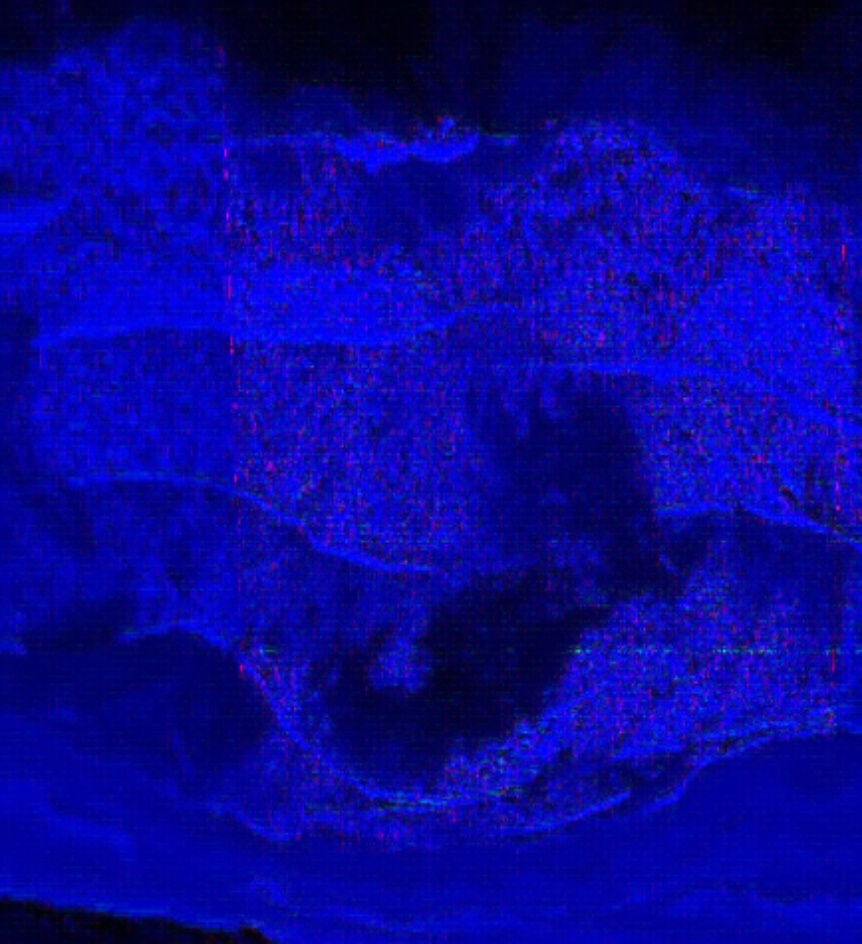rip_current: (296, 239, 688, 756)
